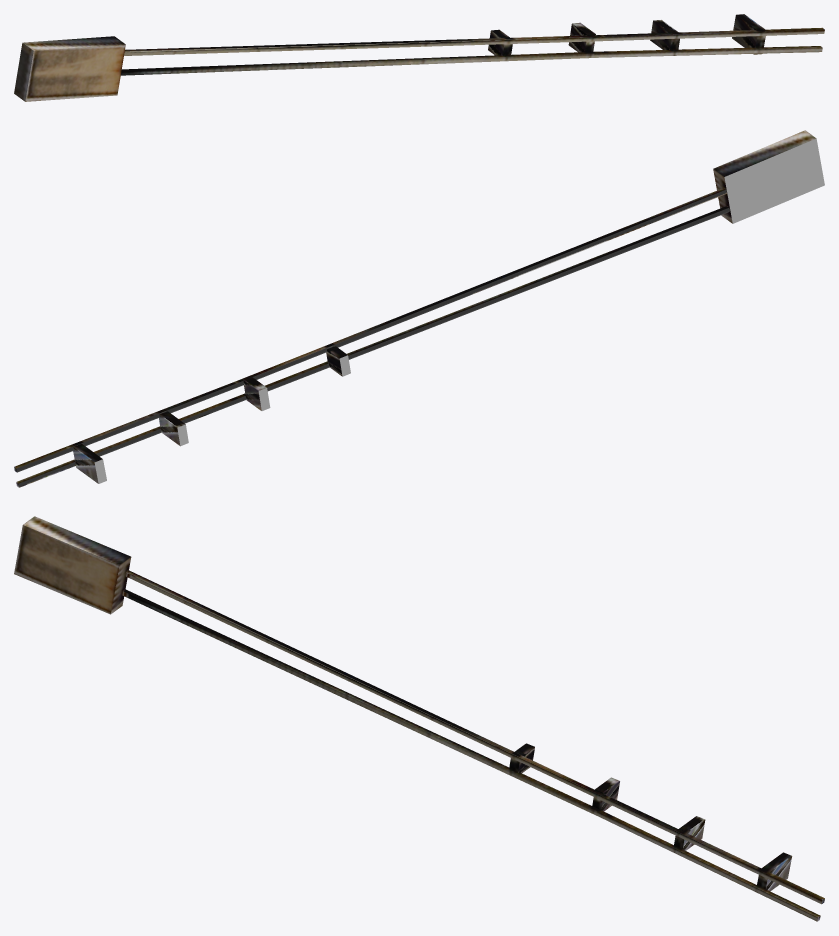
Rendered from 53392650_brid_6677.obj.
3 views of the same model, one above another, from view 1: azimuth 30°, elevation 25°; view 2: azimuth 210°, elevation 25°; view 3: azimuth 330°, elevation 25° (orthographic). The views are drawn at different scales.
Bounding box in the file's own units: 191 × 41.43 × 11.31.
Materials: 1 (1 with a texture image).
